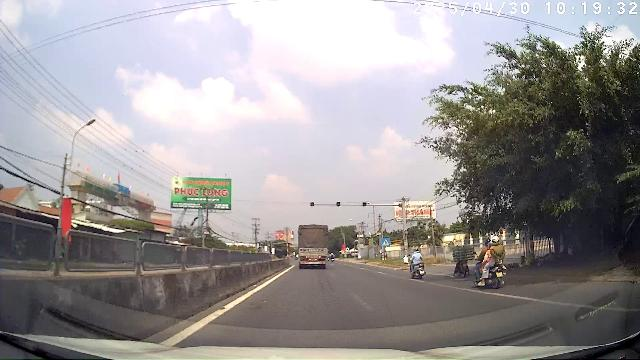423a-duong-nguoi-di-bo-sang-ngang-1: (381, 238, 389, 246)
